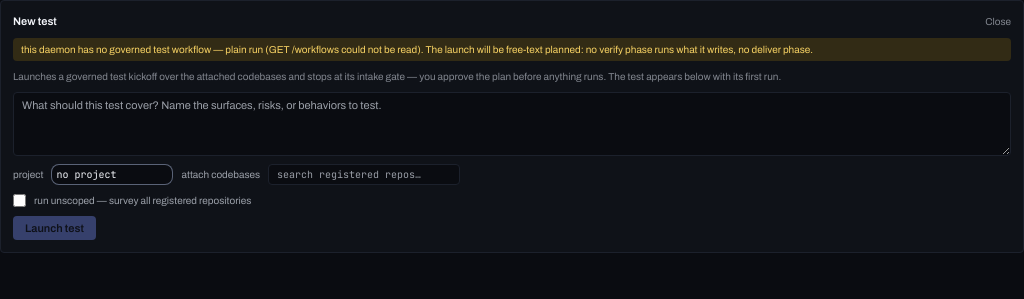
Test: the workflow is read off the daemon, never assumed › F-3: a FAILED workflows read shows the banner first and then enables the plain run as an explicit choice
Check: the text with test id "testing-launch-plain-banner" is shown, box [13,38,1011,60]
Type "wicked-studio" into the field with test id "testing-launch-repo-search" at (364, 174), box [268,164,460,184]
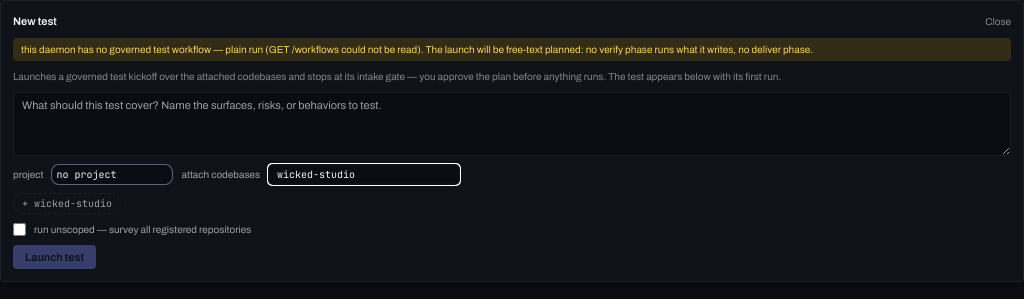
Click the button with test id "testing-launch-repo-option" at (67, 203), box [13,192,121,214]
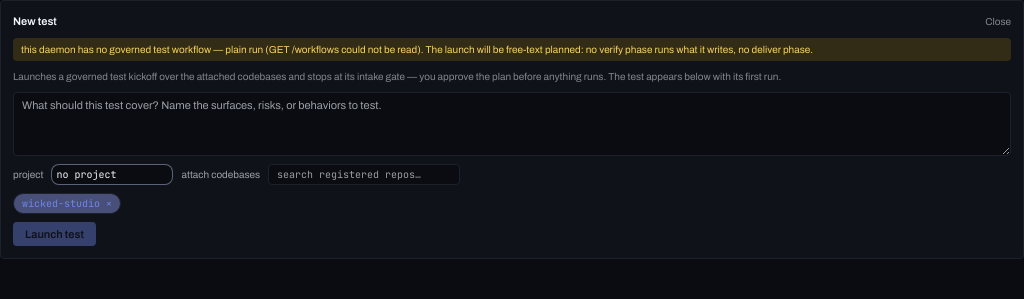
Type "Plain" into the text box with test id "testing-launch-instructions" at (512, 124), box [13,92,1011,156]
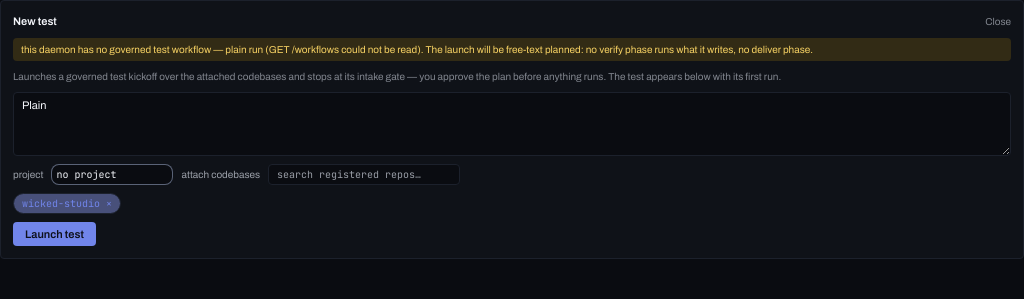
Check: the button with test id "testing-launch-submit" is enabled
Click the button with test id "testing-launch-submit" at (54, 234), box [13,222,96,246]
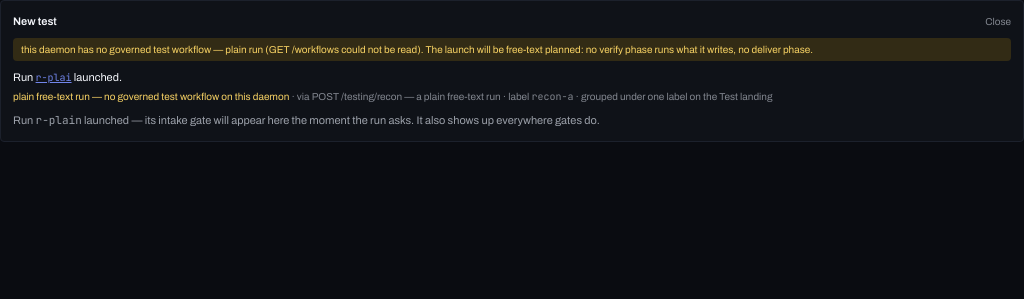
Check: the element with test id "testing-launch-waiting" is shown, box [13,113,600,127]
